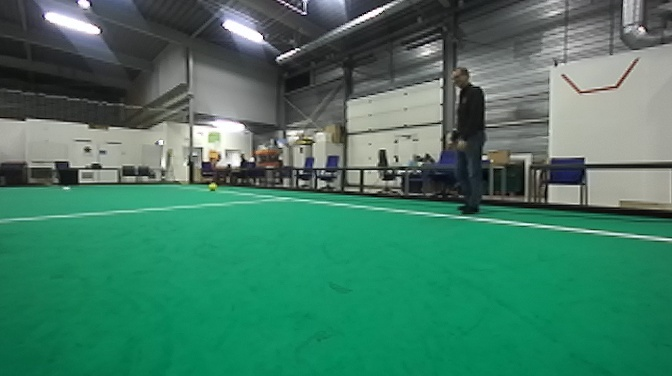ball: (207, 181, 218, 193)
human: (444, 65, 496, 225)
